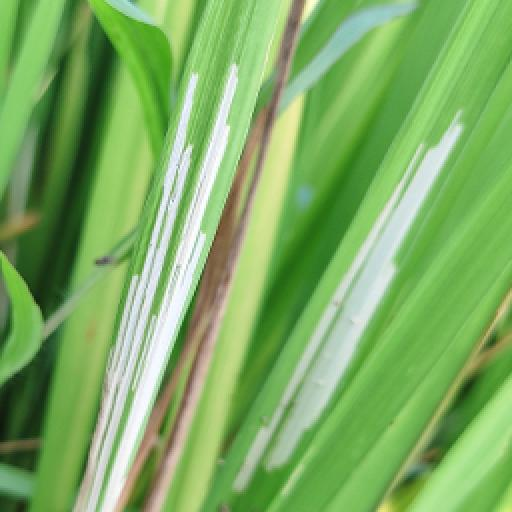Bacterial Leaf Blight: (230, 100, 478, 504), (68, 68, 238, 512)
